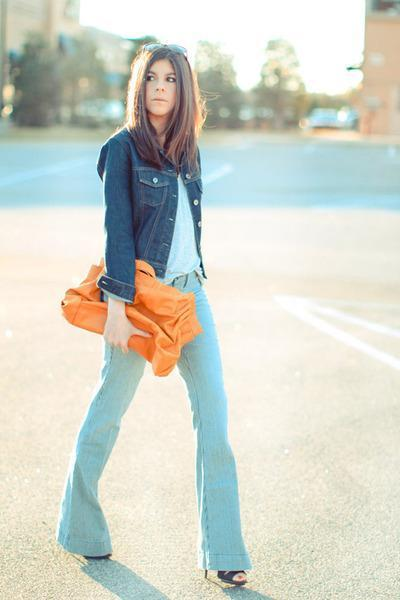bag: (61, 259, 201, 376)
jacket: (96, 132, 206, 303)
pants: (58, 276, 250, 574)
shirt: (157, 180, 201, 292)
shoe: (83, 554, 247, 592)
